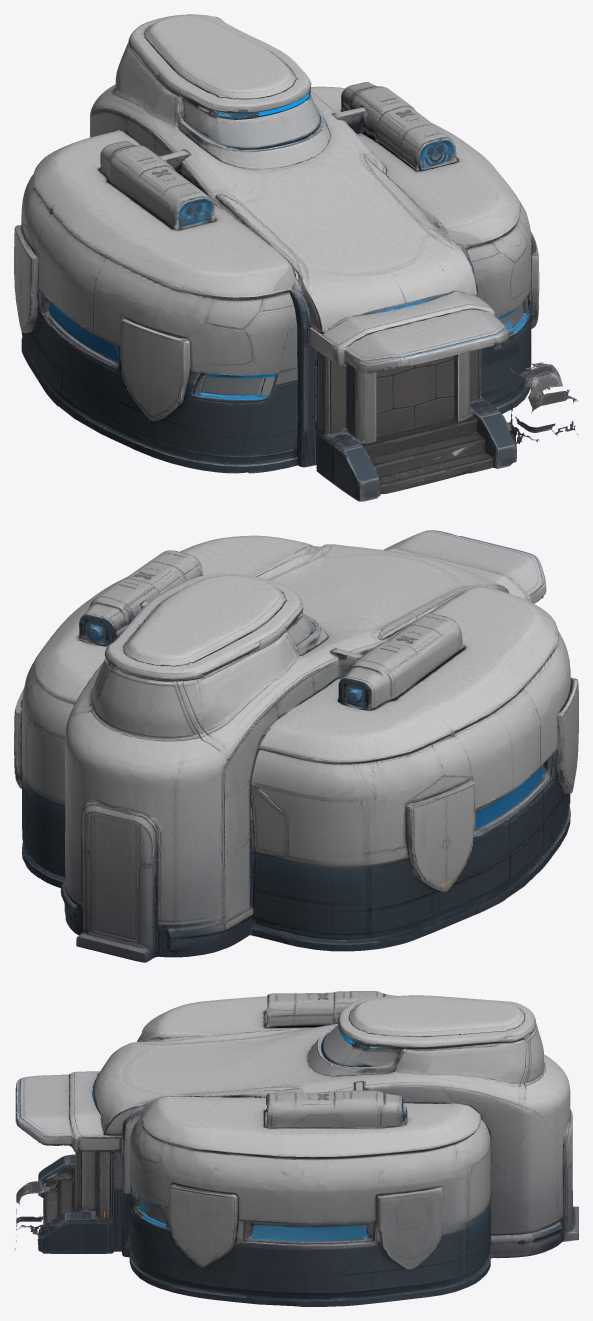
File: barracks.glb
The picture shows the model from 3 angles, top to bottom: view 1: azimuth 30°, elevation 25°; view 2: azimuth 150°, elevation 25°; view 3: azimuth 270°, elevation 25°; orthographic projection. The views are drawn at different scales.
Visible parts, largest first — view 1: mesh_node; view 2: mesh_node; view 3: mesh_node.
Boxes of the visible parts, <box> form: mesh_node: <box>14,14,578,501</box>; mesh_node: <box>14,530,578,962</box>; mesh_node: <box>14,991,578,1306</box>.
Size of the model in its own units: 1.36 by 0.7997 by 1.9.
1 material, 1 textured.
